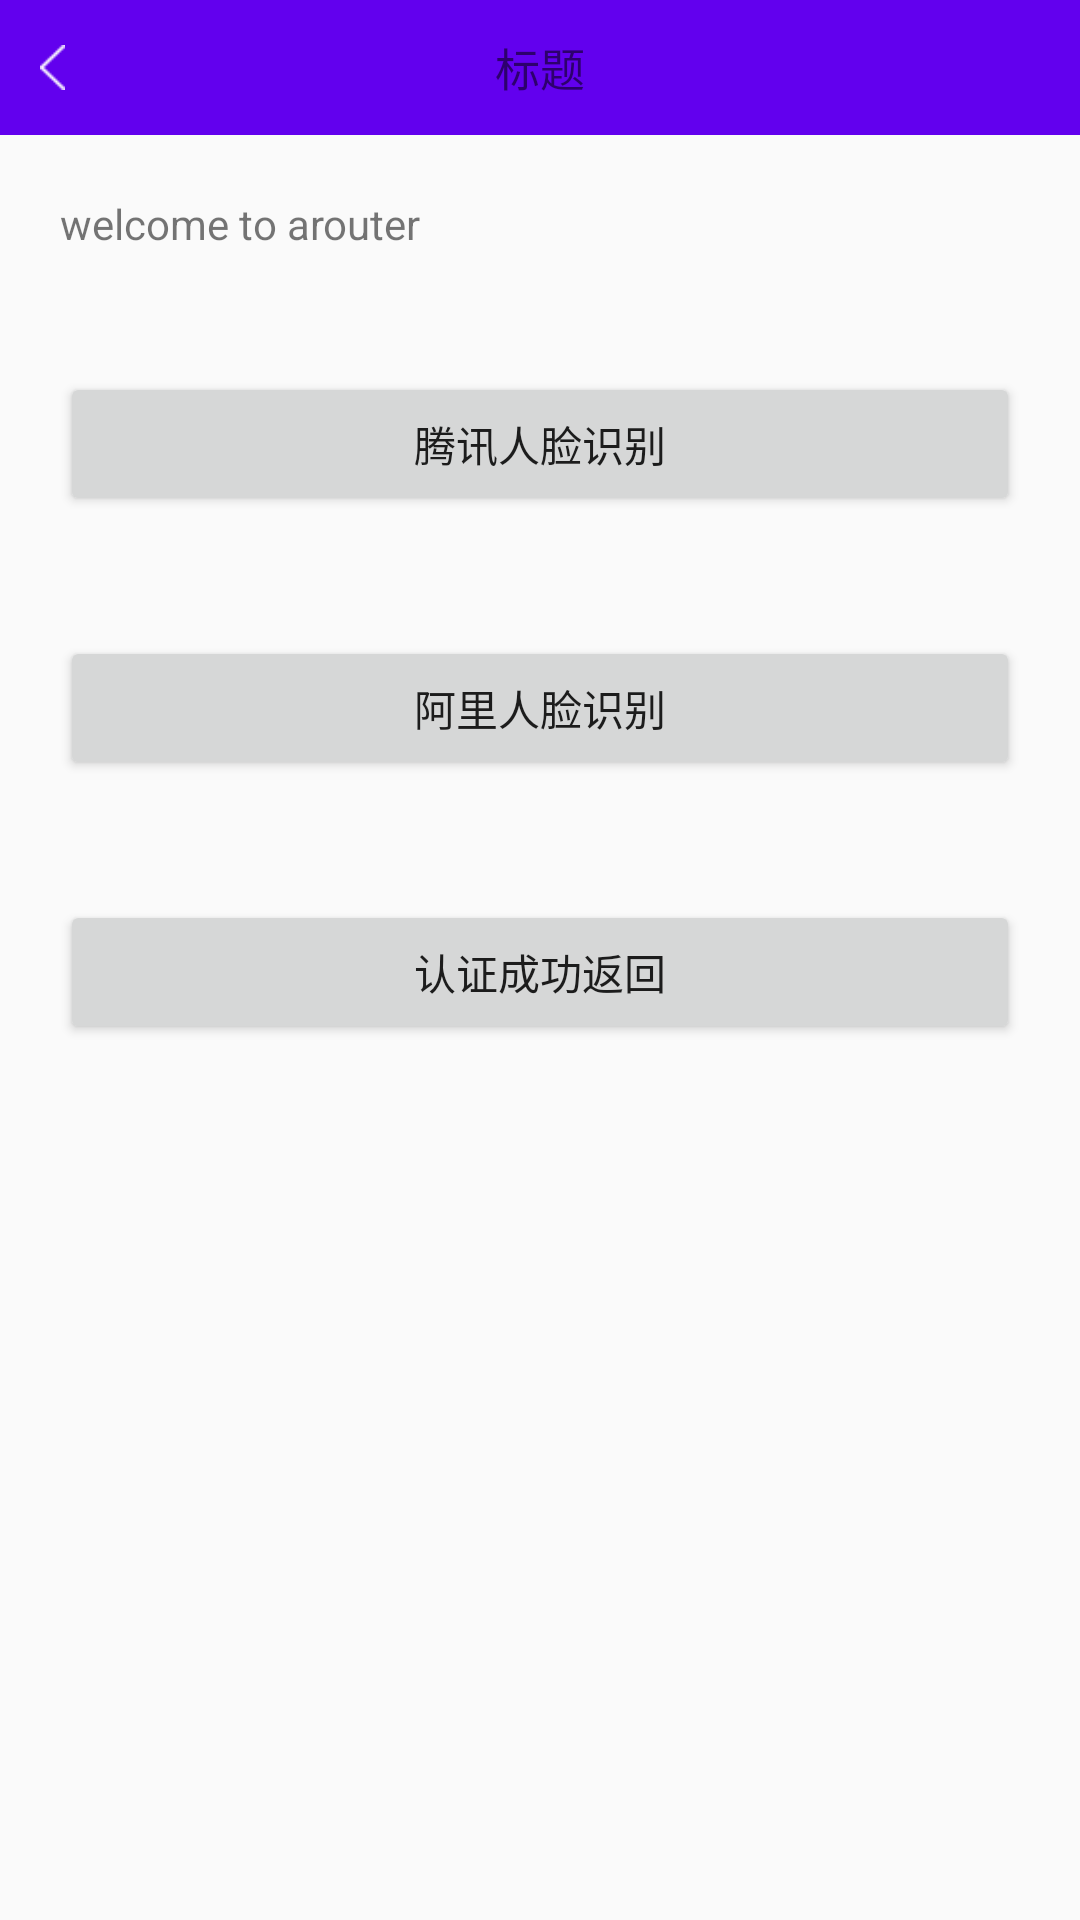

Icons on this 1080px x 1920px Android screen, each with the point to tap as (x=x, y=y):
back: (x=52, y=67)
